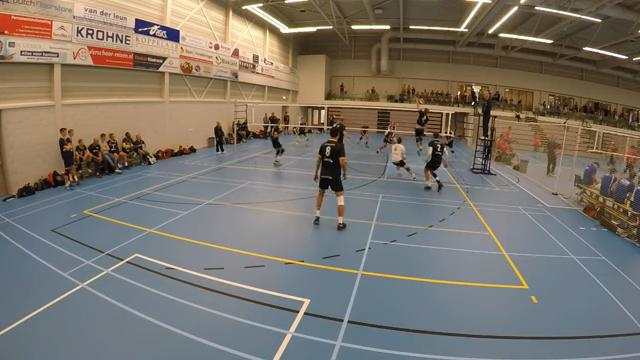Attack: (410, 93, 432, 158)
Player: (313, 127, 345, 230), (424, 133, 446, 191), (391, 137, 416, 180), (271, 126, 284, 165), (376, 124, 394, 152), (332, 118, 352, 143), (295, 121, 308, 145), (357, 124, 368, 147), (445, 134, 454, 153)
ball: (417, 95, 424, 105)
